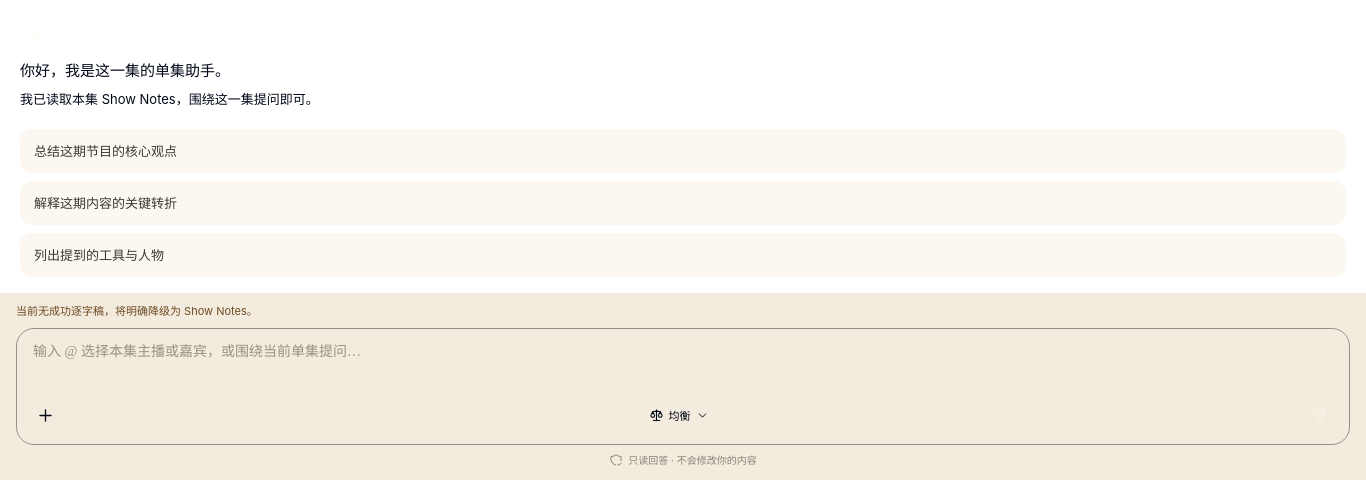
Scenario: EpisodeCopilotPanel › offers the three tiers with task hints, a recommended default, and readable technical info
Click the button with test id "copilot-profiles". click: click(680, 416)
box: [640,400,720,432]
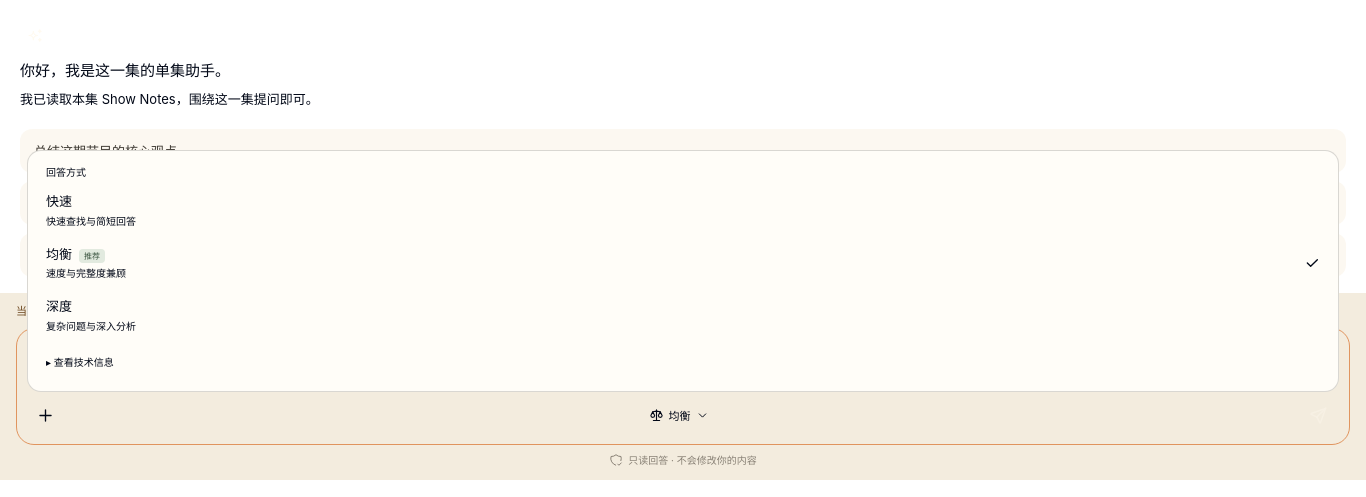
expect the number of menu items is 3: met, box [36,184,1330,237]; [36,237,1330,289]; [36,289,1330,342]
expect the menu item with aria-label "快速：快速查找与简短回答" is shown: met, box [36,184,1330,237]
expect the menu item with aria-label "均衡：速度与完整度兼顾（推荐）" is shown: met, box [36,237,1330,289]
// Technical contract stays reachable, one interaction below the surface.
Click the heading "查看技术信息". click: click(84, 362)
box: [54,356,114,368]
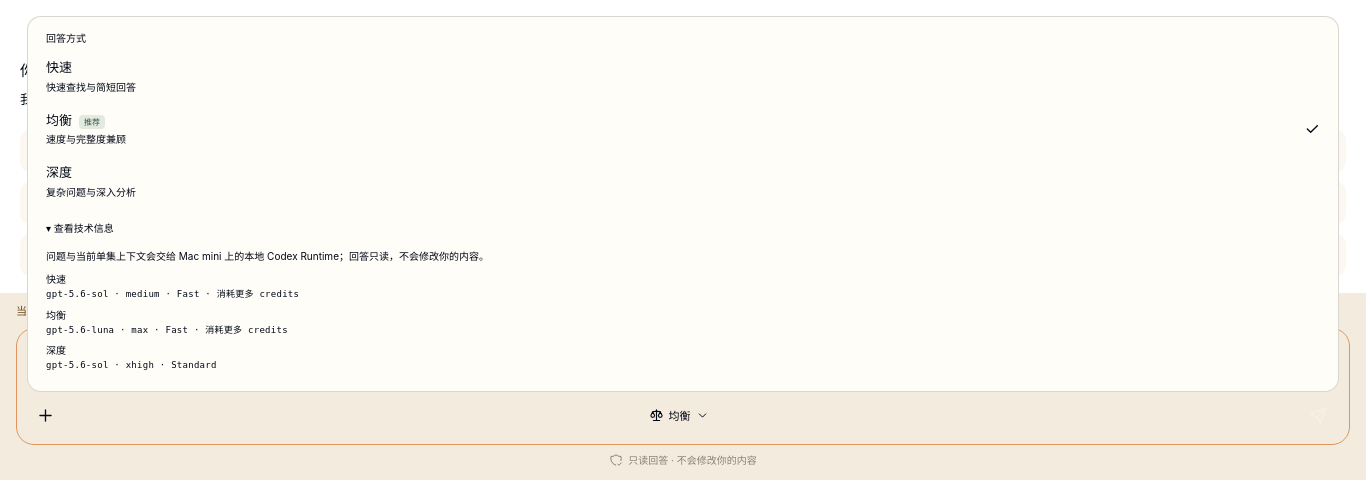
expect the text "gpt-5.6-sol · medium · Fast · 消耗更多 credits" is shown: met, box [46,289,299,299]
expect the text "gpt-5.6-luna · max · Fast · 消耗更多 credits" is shown: met, box [46,325,288,335]
expect the text "gpt-5.6-sol · xhigh · Standard" is shown: met, box [46,360,217,370]
Press Escape in the menu named "选择回答档位", box [36,50,1330,208]
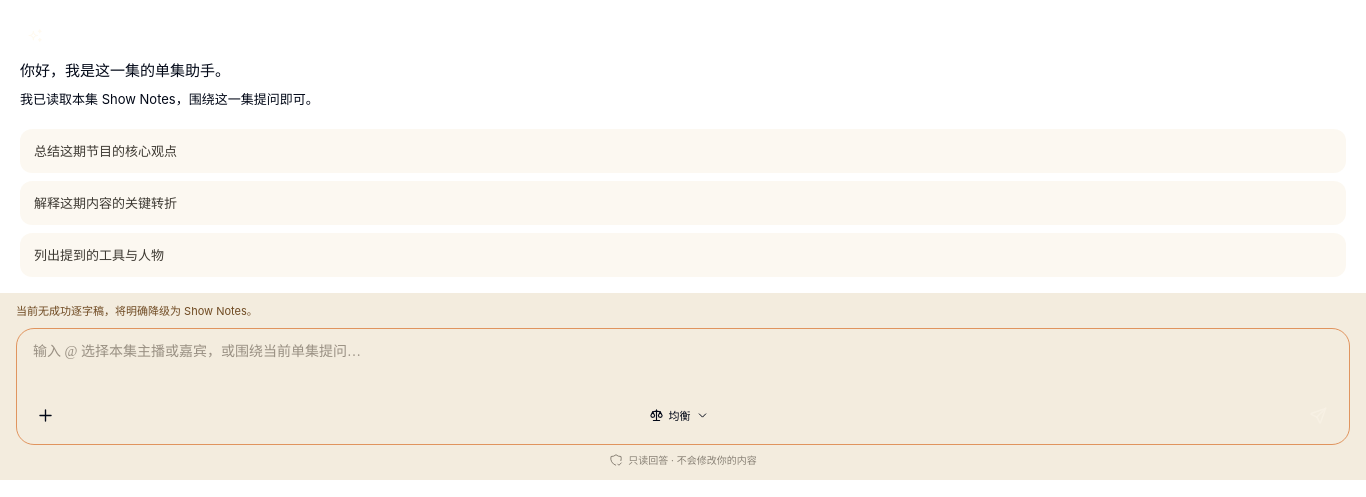
expect the menu "选择回答档位" is gone: met
